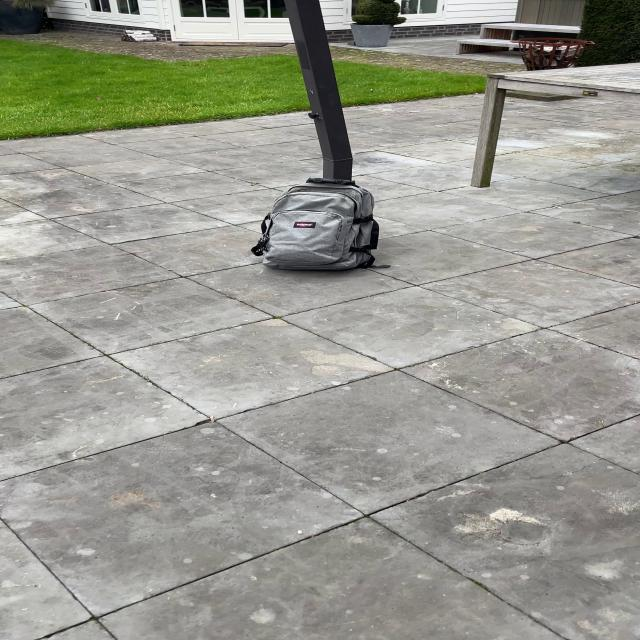backpack: (248, 174, 386, 276)
